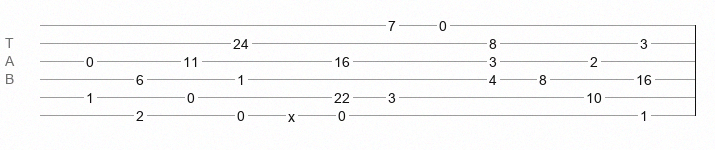0: (86, 54, 94, 64), (187, 90, 195, 100), (237, 108, 245, 118), (338, 108, 346, 118), (439, 18, 447, 28)
1: (86, 90, 94, 100), (237, 72, 245, 82), (640, 108, 648, 118)
10: (586, 90, 602, 100)
11: (183, 54, 199, 64)
16: (334, 54, 350, 64), (636, 72, 652, 82)
2: (136, 108, 144, 118), (590, 54, 598, 64)
22: (334, 90, 350, 100)
24: (233, 36, 249, 46)
3: (388, 90, 396, 100), (489, 54, 497, 64), (640, 36, 648, 46)
4: (489, 72, 497, 82)
6: (136, 72, 144, 82)
7: (388, 18, 396, 28)
8: (489, 36, 497, 46), (539, 72, 547, 82)
x: (288, 109, 295, 117)
